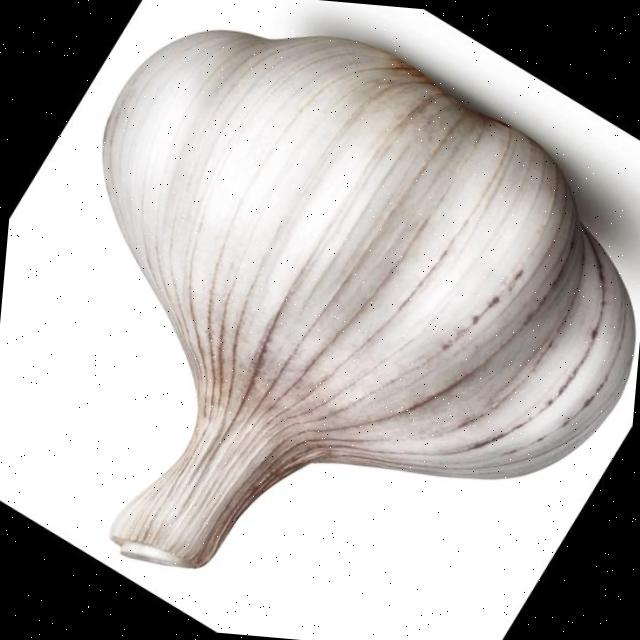garlic: (102, 30, 634, 564)
